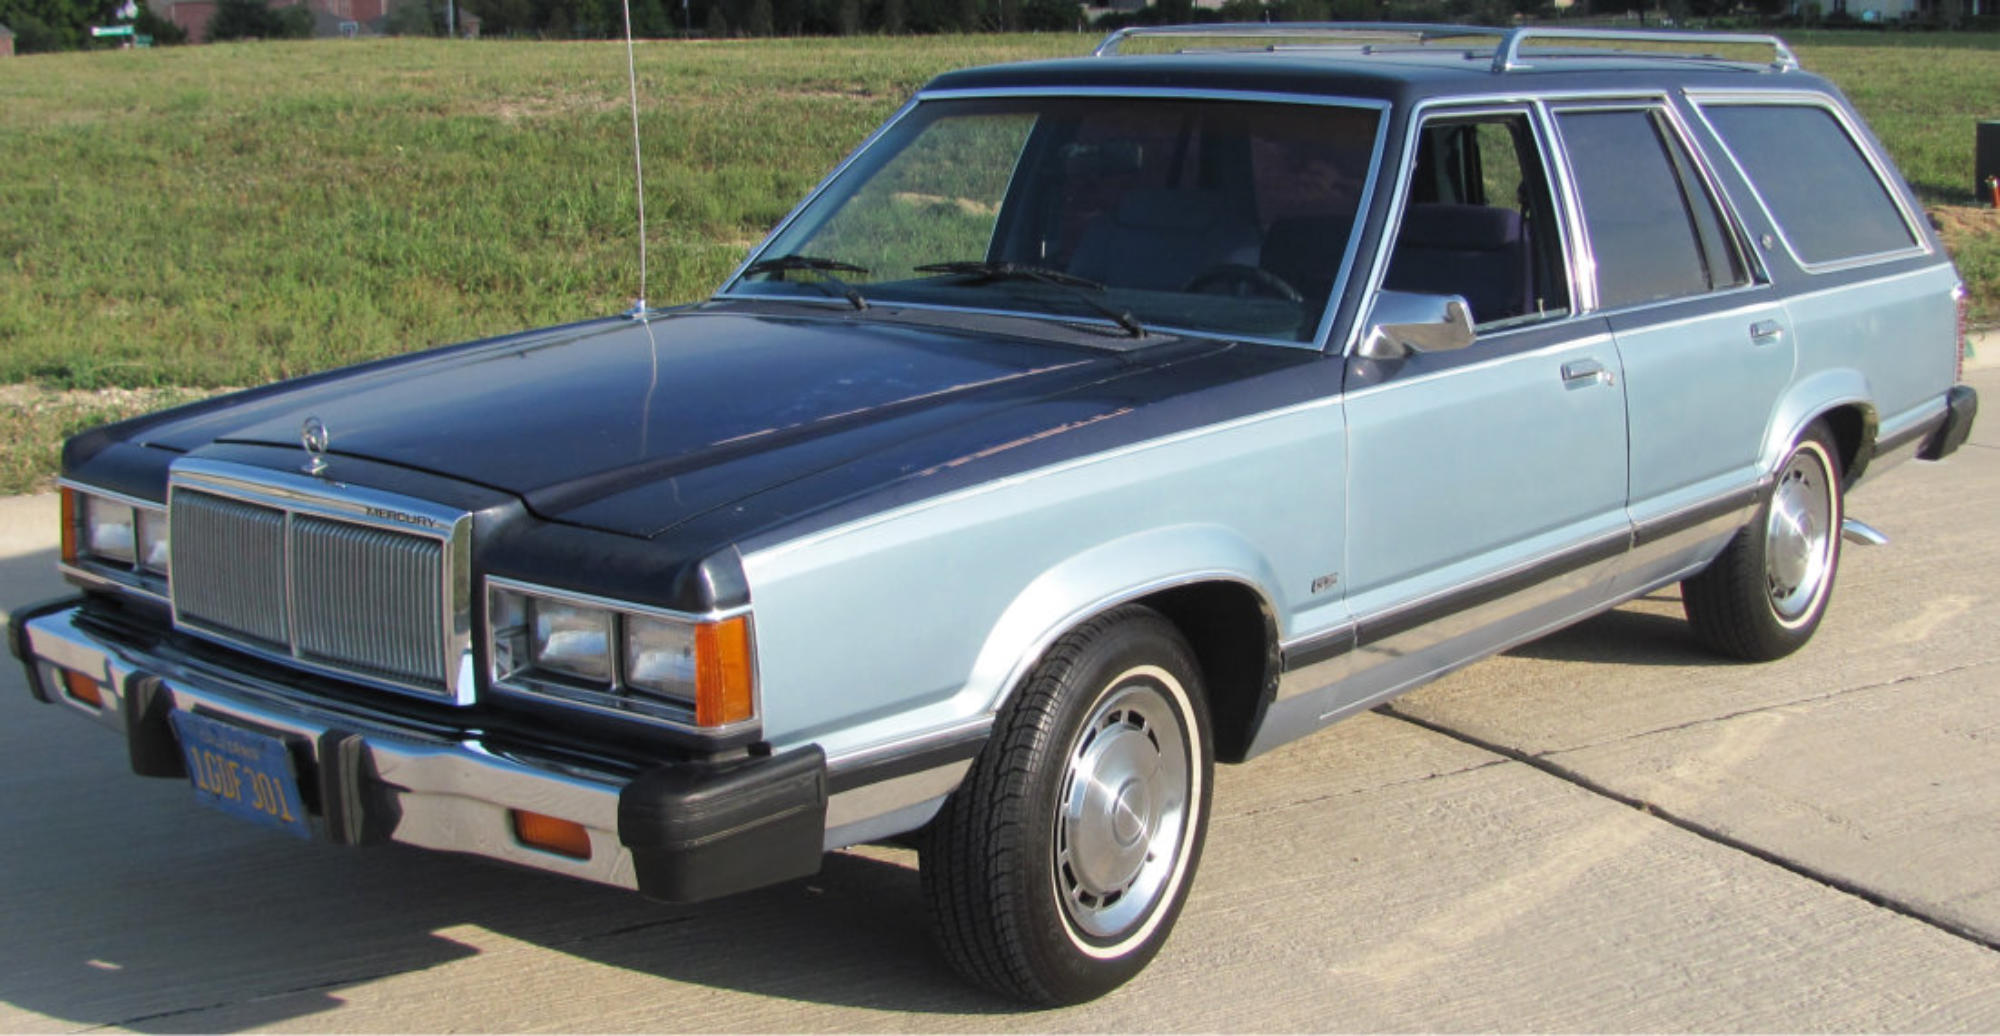car: (8, 34, 1974, 1006)
